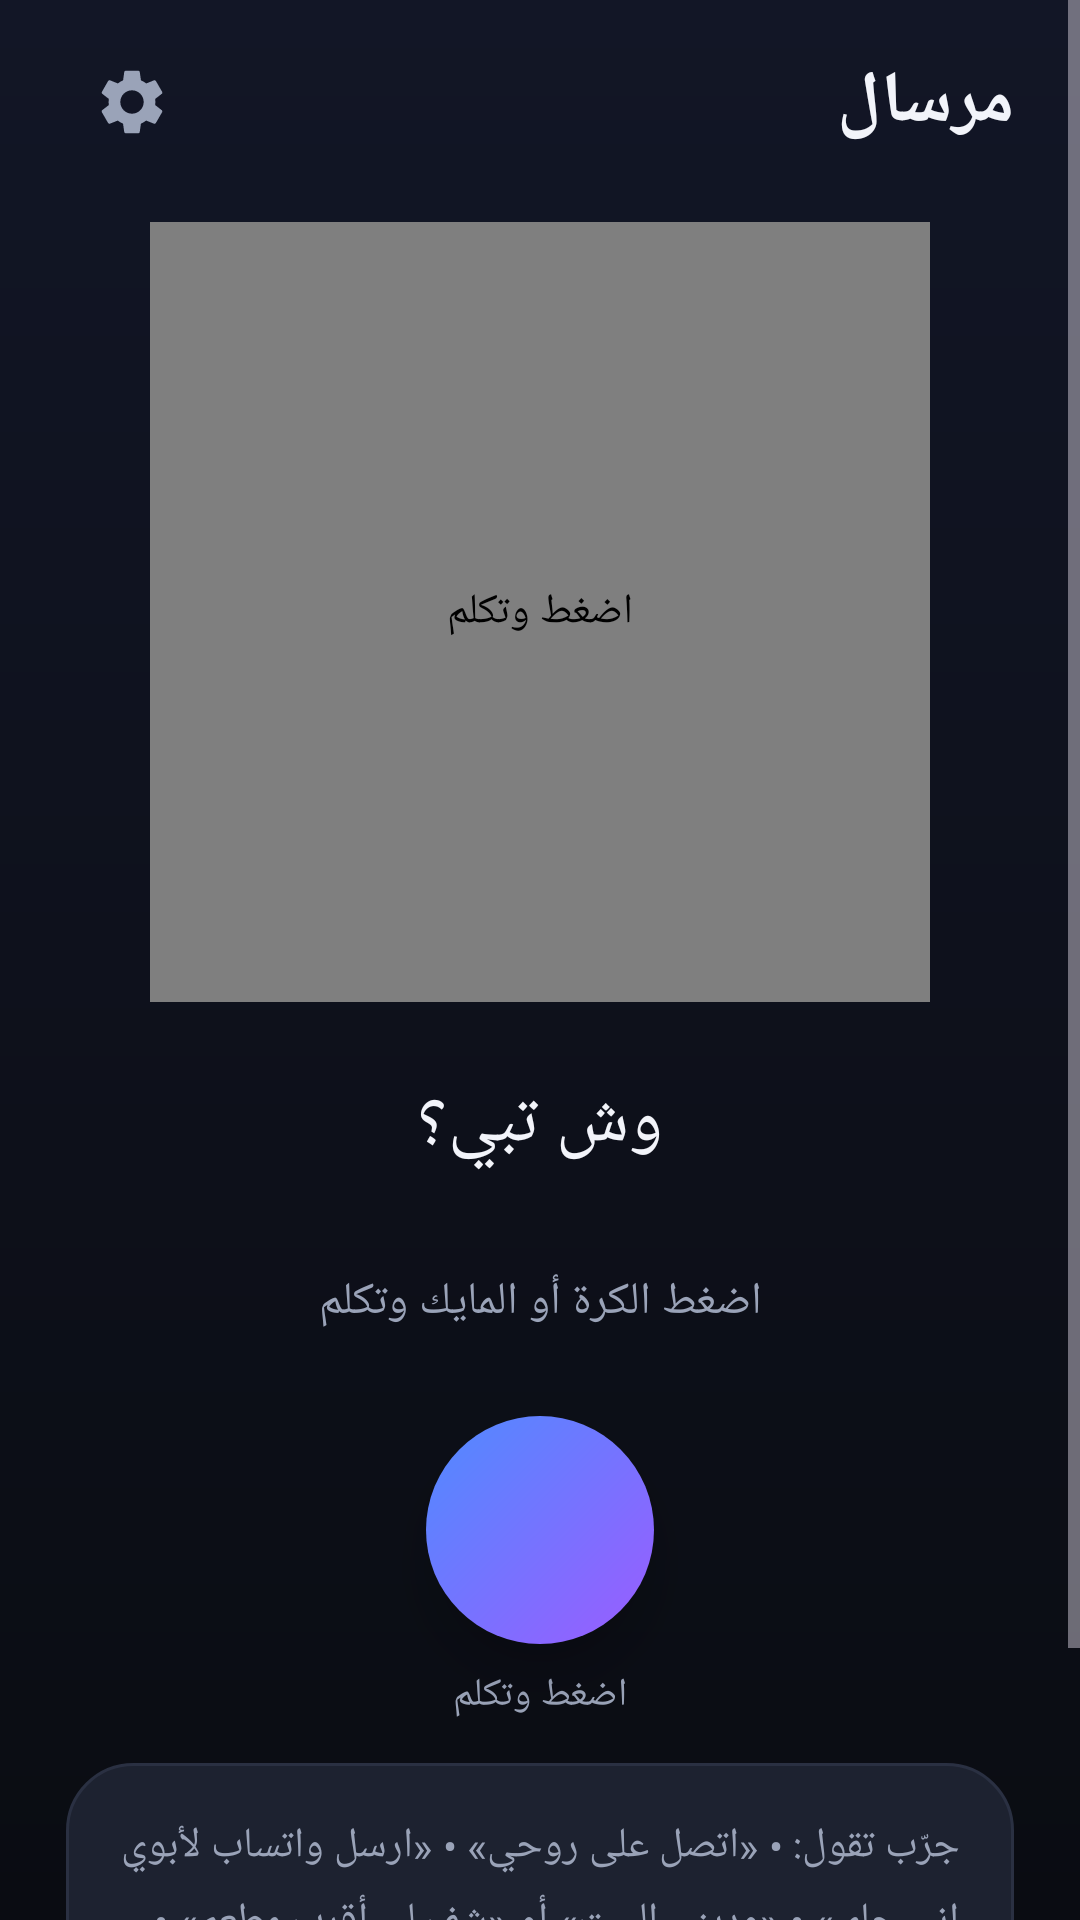

Icon click points for this 1080px x 1920px phone screenshot, format [x,y]:
الإعدادات: [132,102]
